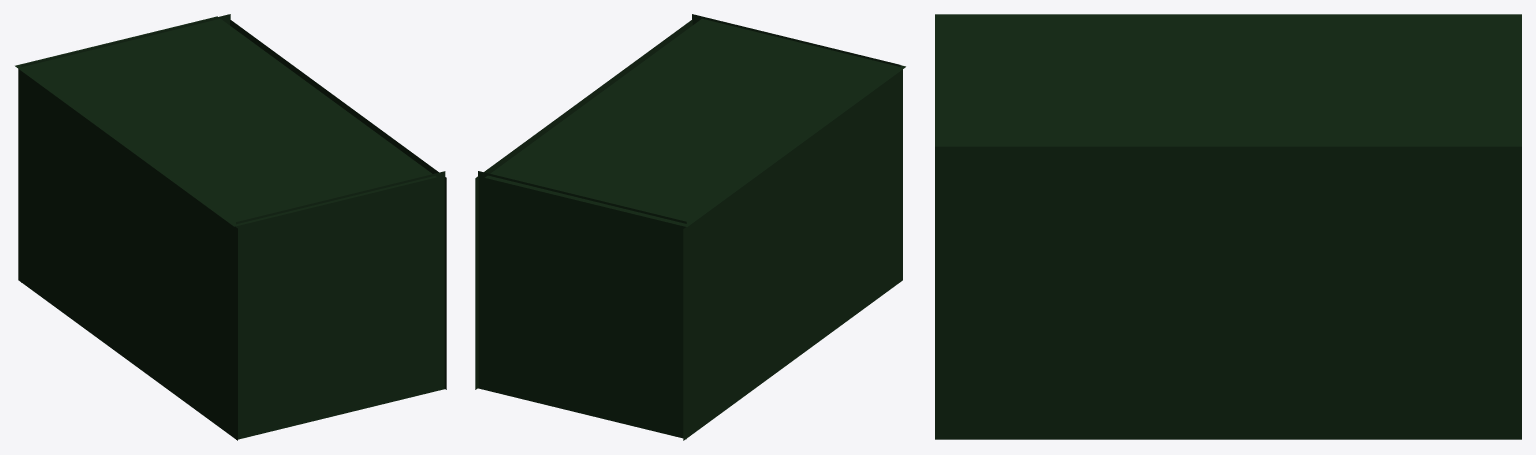
File: glassBoxVar3.fbx
3 views of the same model, side by side, from view 1: azimuth 30°, elevation 25°; view 2: azimuth 150°, elevation 25°; view 3: azimuth 270°, elevation 25° (orthographic). The views are drawn at different scales.
Visible parts, largest first — view 1: Plane002; view 2: Plane002; view 3: Plane002.
Boxes of the visible parts, <box> form: Plane002: <box>15,14,446,440</box>; Plane002: <box>475,14,905,440</box>; Plane002: <box>935,14,1521,439</box>.
Bounding box in the file's own units: 147 × 143 × 262.
